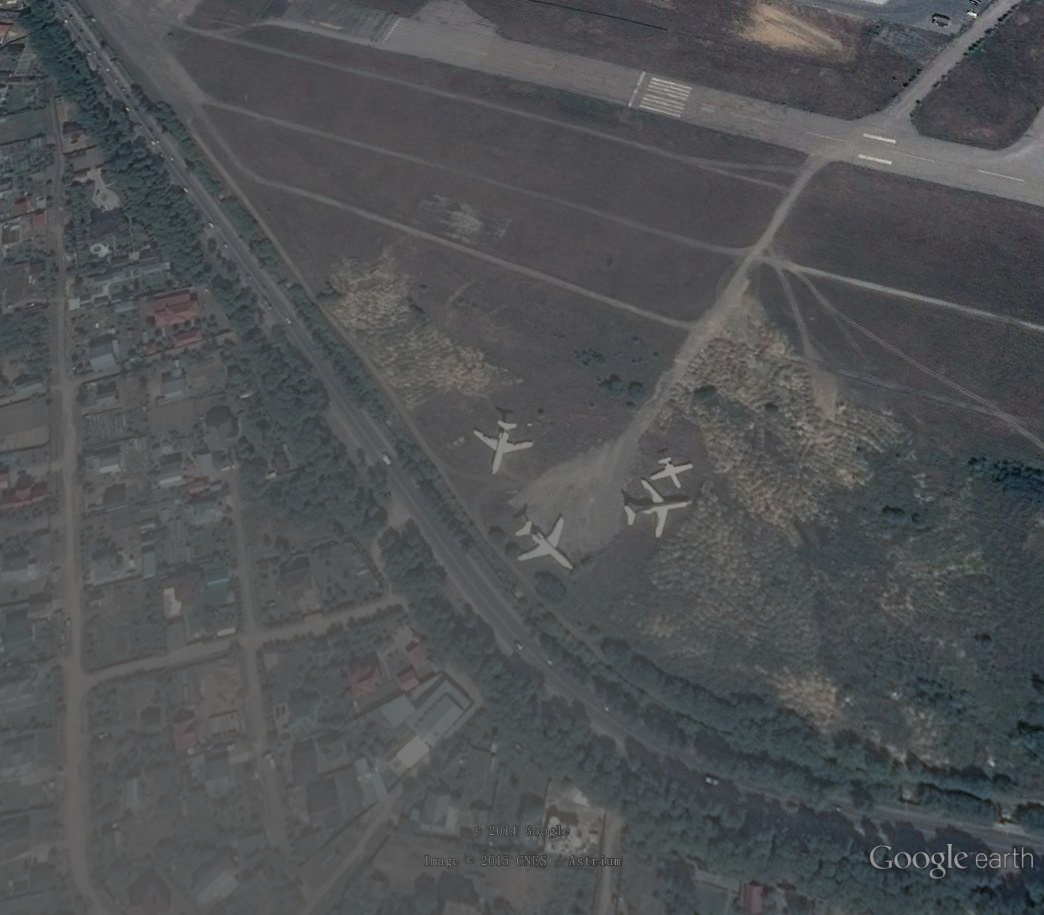aircraft: (620, 477, 696, 542), (469, 417, 537, 477), (516, 512, 576, 575), (649, 456, 696, 491)
